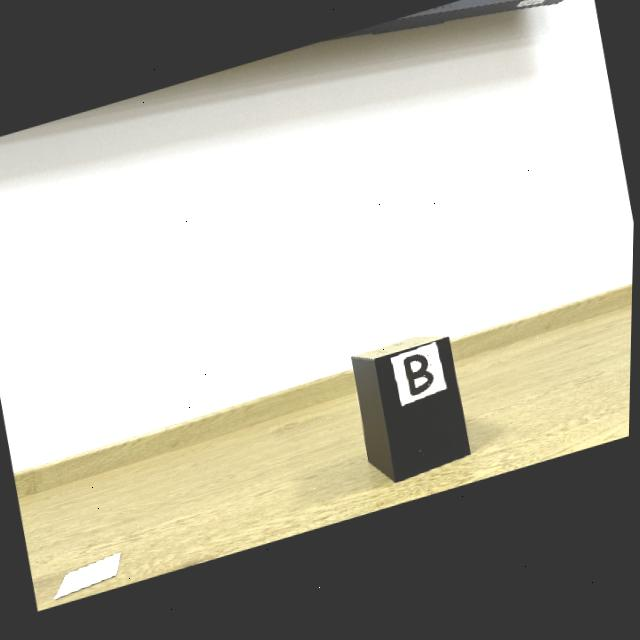B: (406, 364, 436, 406)
